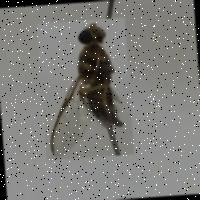Oriental-fruit-fly: (36, 16, 134, 159)
